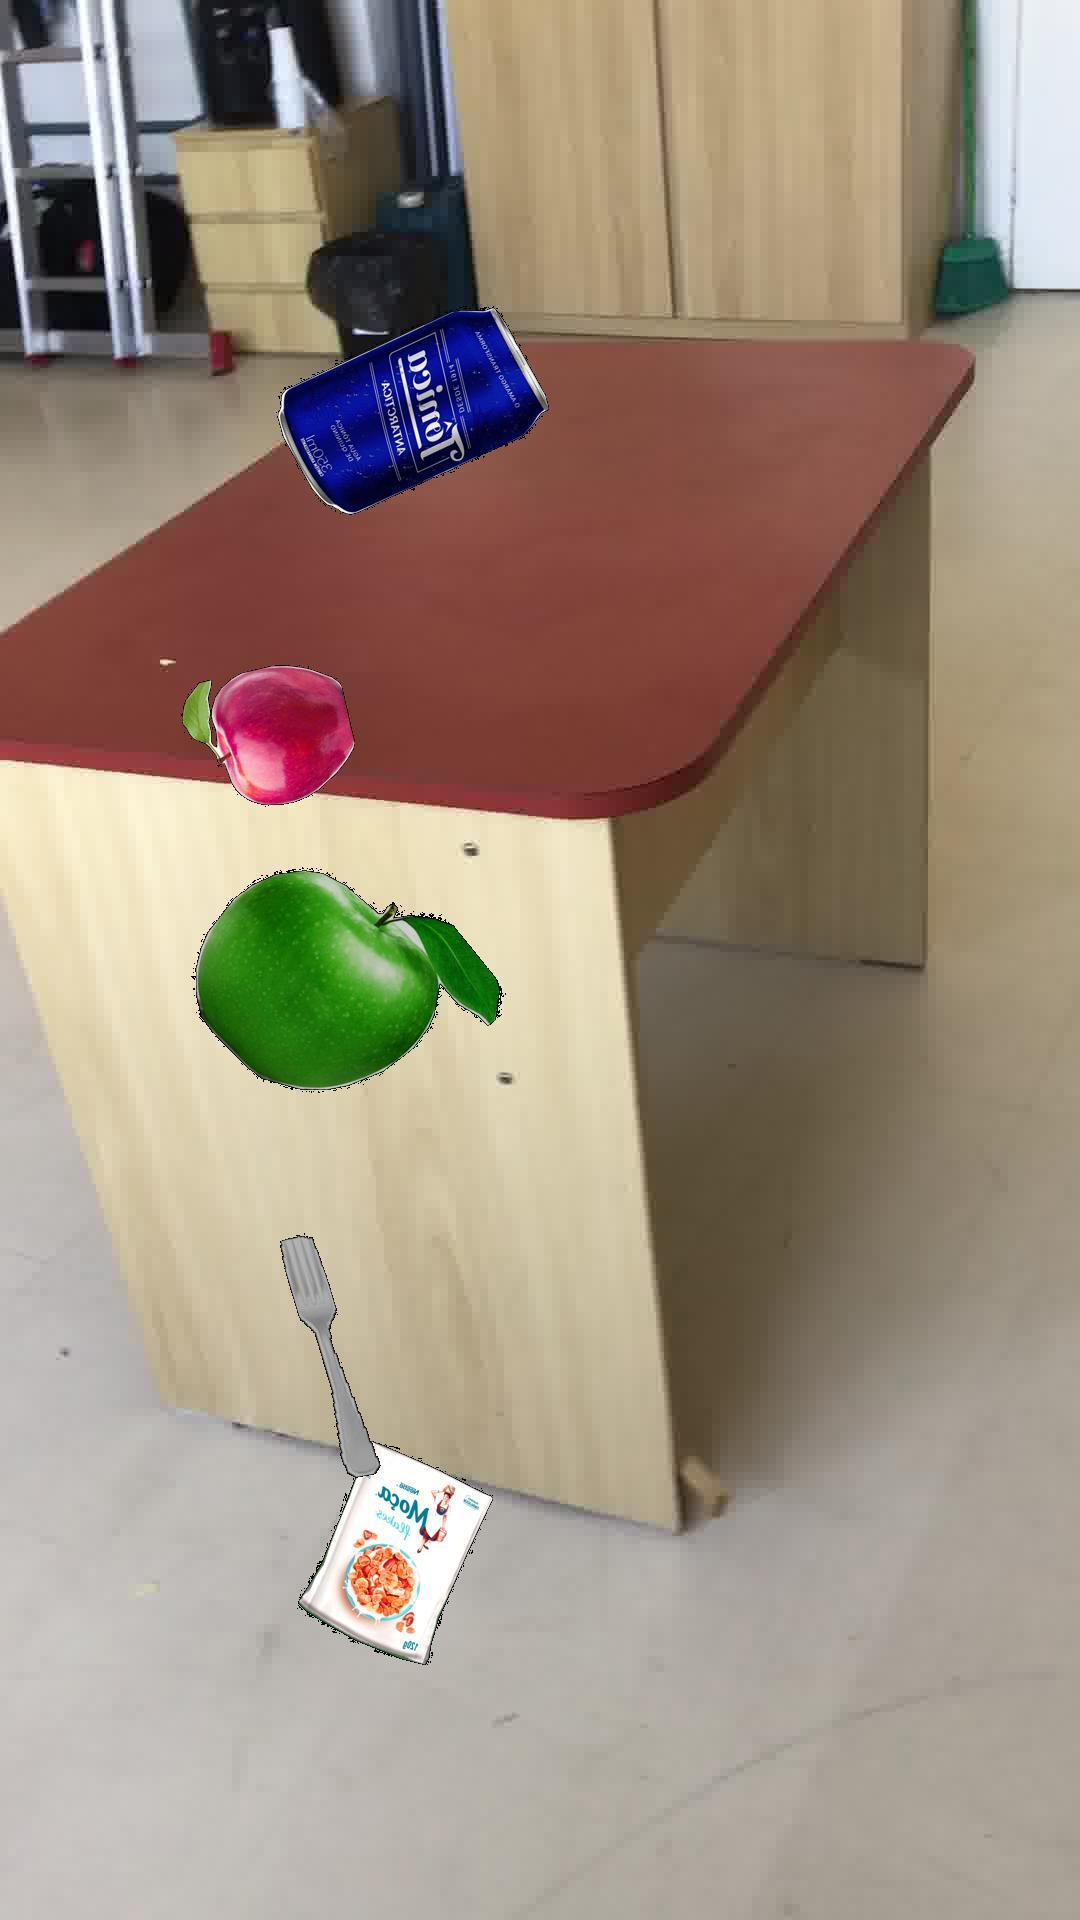apple: (179, 663, 353, 804)
corn flakes: (297, 1440, 492, 1663)
fork: (278, 1233, 380, 1477)
green apple: (190, 868, 501, 1088)
tonic: (276, 305, 547, 513)
